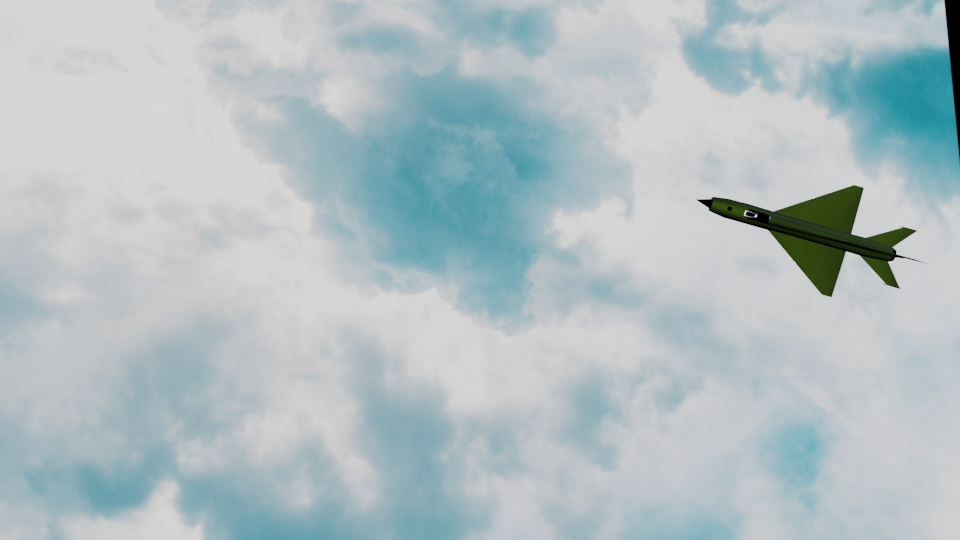plane: (690, 183, 926, 295)
